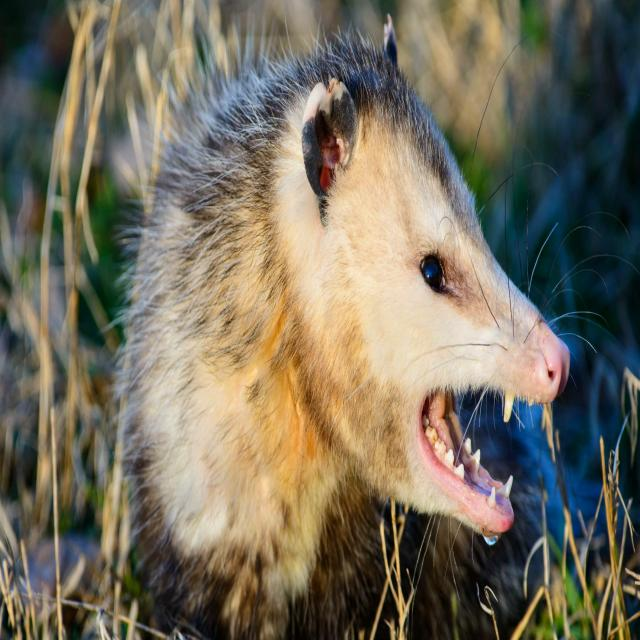possum: (116, 16, 570, 638)
